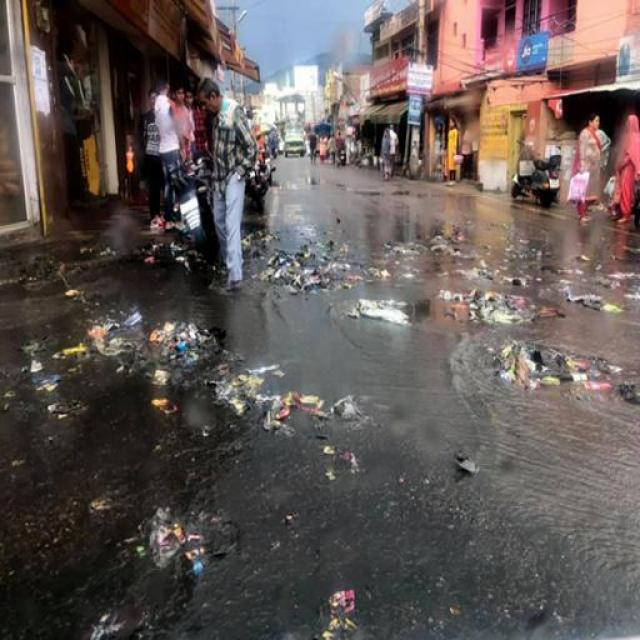puddle: (38, 445, 624, 629), (246, 297, 502, 468)
